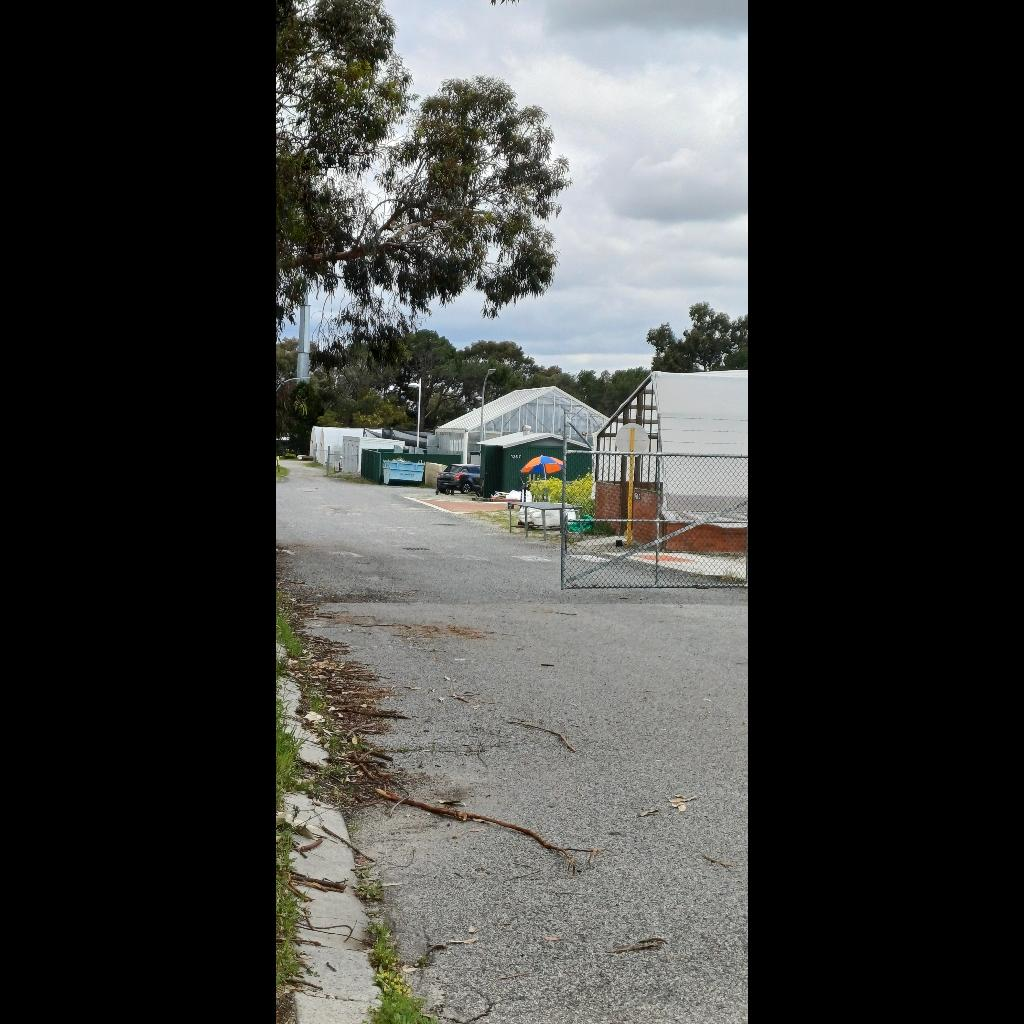BuildingCodes: (512, 454, 522, 460)
